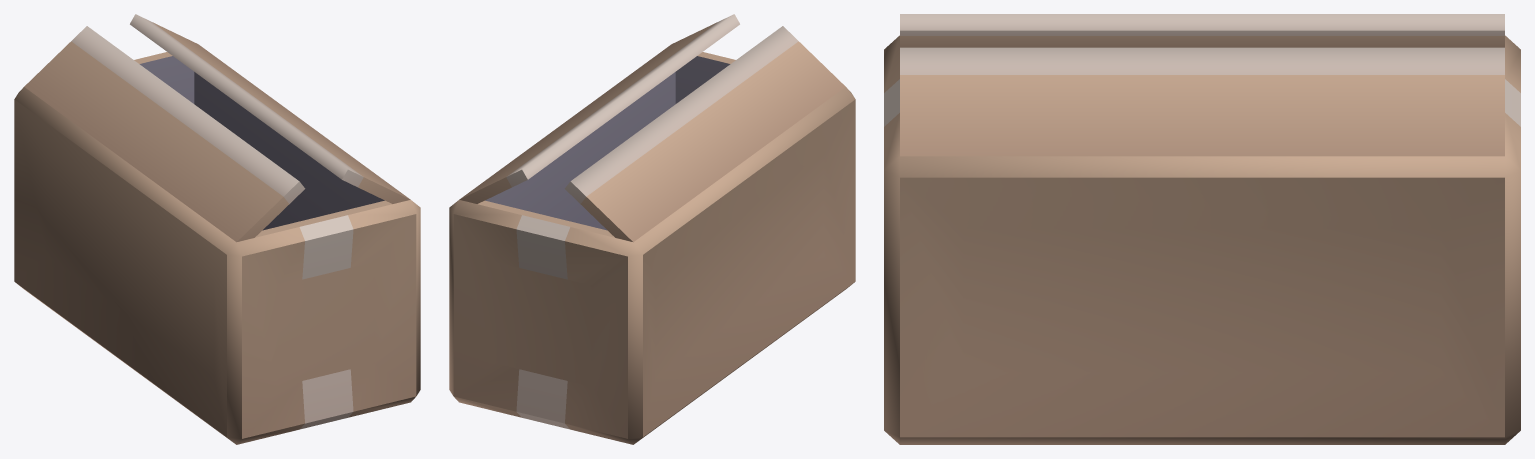
The model's file is cardboard-box-long-open_0.glb.
3 renders of one model, left to right at view 1: azimuth 30°, elevation 25°; view 2: azimuth 150°, elevation 25°; view 3: azimuth 270°, elevation 25°, orthographic. The views are drawn at different scales.
Parts seen in each view (by area): view 1: cardboard-box-long-open; view 2: cardboard-box-long-open; view 3: cardboard-box-long-open.
Boxes of the visible parts, x1,y1,x2,y2 form: cardboard-box-long-open: (14, 14, 420, 444); cardboard-box-long-open: (449, 14, 855, 444); cardboard-box-long-open: (884, 14, 1520, 444).
Size of the model in its own units: 0.375 by 0.4594 by 0.75.
